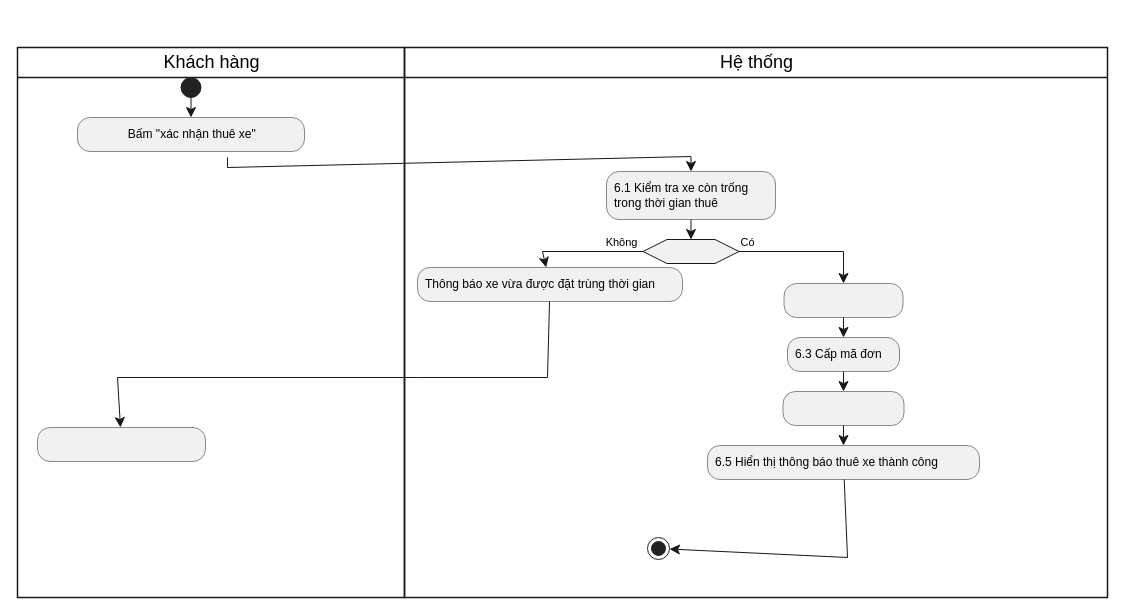
The diagram is 1126 pixels wide and 615 high, and some of its shapes have lost their labels. Each missing label, with the centre of its shape:
"6.2 Tạo đơn thuê" goes at point 843,300.
"6.4 Tính tiền cọc" goes at point 843,408.
"B3 chọn xe" goes at point 121,444.
"Xe còn trống?" goes at point 690,251.
